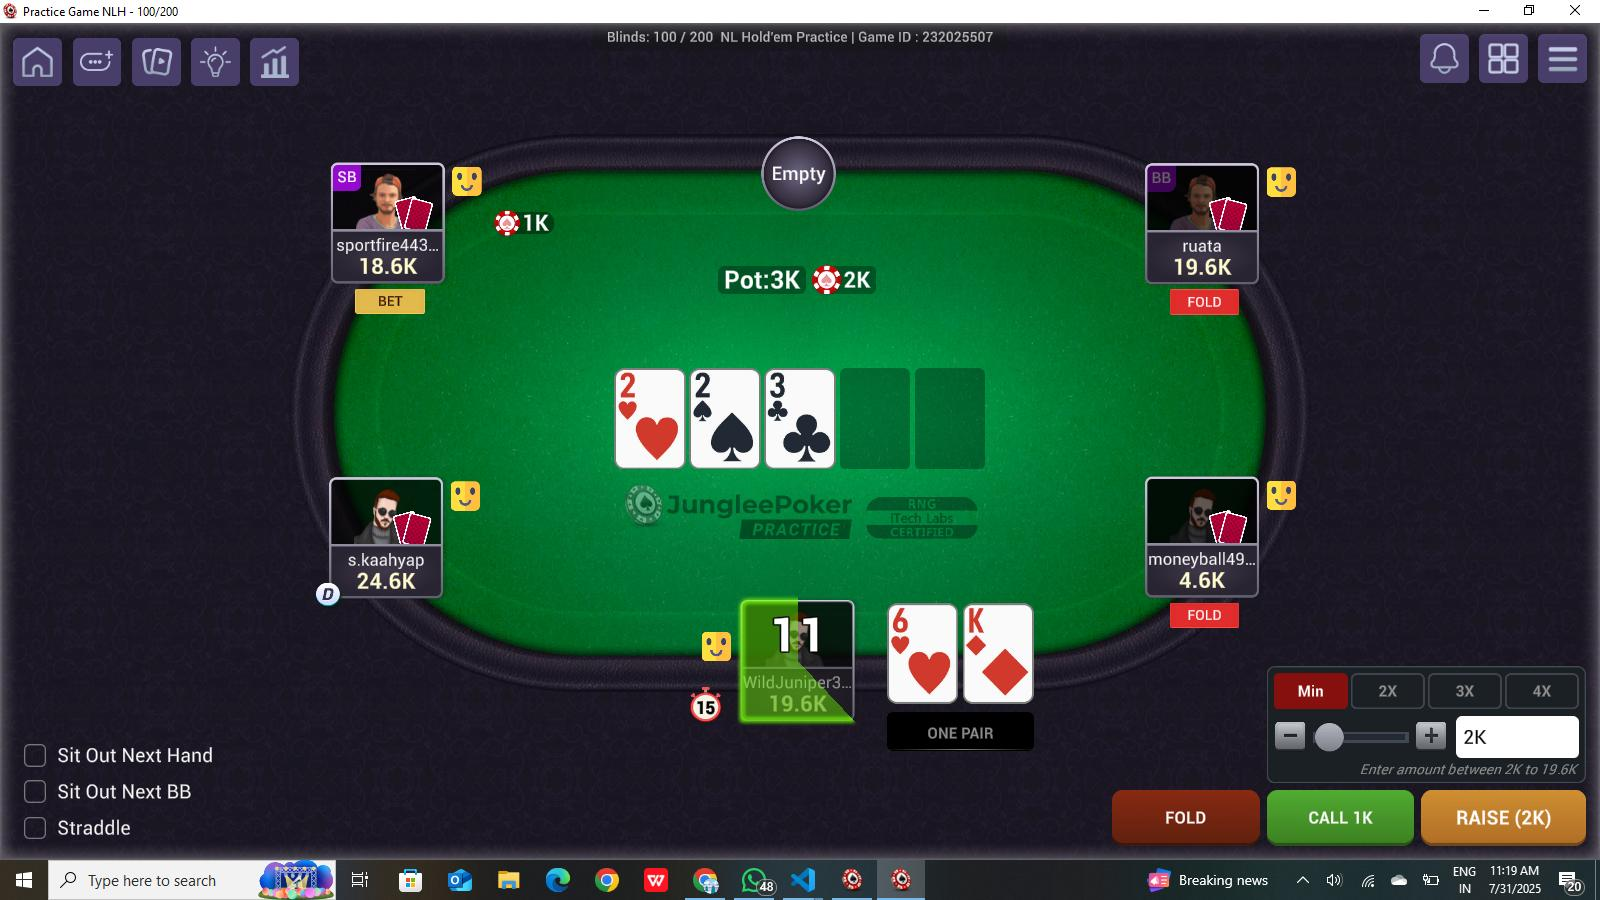button_call: (1273, 790, 1414, 844)
button_fold: (1112, 789, 1262, 845)
button_raise: (1423, 791, 1587, 843)
card1_rank: (886, 604, 957, 644)
card1_suite_heart: (904, 645, 957, 701)
card2_rank: (964, 601, 1036, 640)
card2_suite_diamond: (973, 638, 1031, 701)
flop1_rank: (616, 370, 679, 409)
flop1_suite_heart: (627, 402, 682, 463)
flop2_rank: (690, 368, 757, 407)
flop2_suite_spades: (708, 407, 758, 466)
flop3_rank: (768, 368, 826, 403)
flop3_suite_club: (776, 401, 836, 465)
game_id: (849, 29, 1011, 48)
iinput_field: (1456, 713, 1577, 757)
my_stack: (742, 685, 854, 720)
position_BB: (1146, 160, 1179, 200)
position_SB: (332, 160, 360, 197)
total_pot: (720, 265, 879, 302)
villian1_name: (332, 544, 445, 570)
villian1_stack: (334, 565, 440, 595)
villian2_bet: (492, 211, 554, 238)
villian2_name: (332, 229, 445, 260)
villian2_stack: (336, 253, 445, 281)
villian3_name: (1148, 229, 1263, 259)
villian3_stack: (1148, 248, 1257, 279)
villian5_name: (1148, 543, 1256, 568)
villian5_stack: (1146, 563, 1258, 595)
